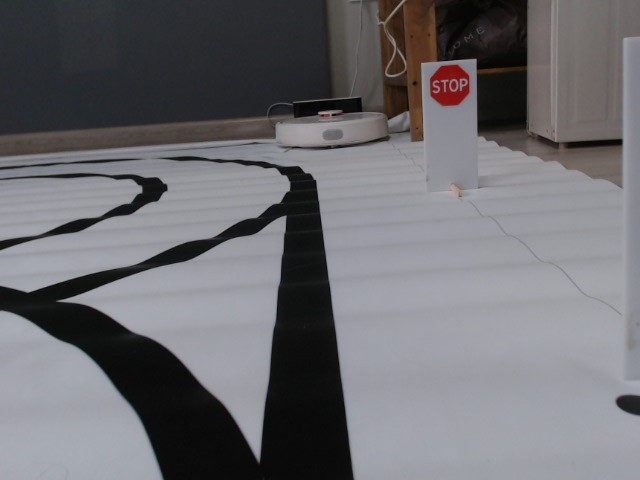Stop: (428, 63, 471, 107)
